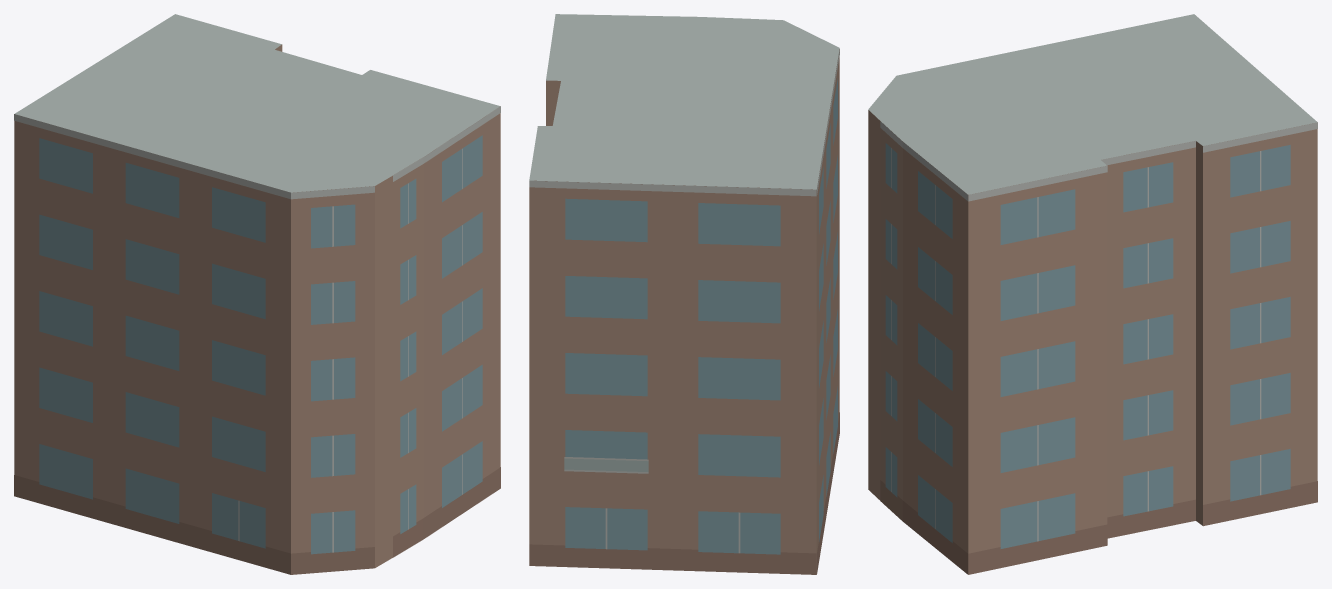
File: survey-upis-32707267.glb
The picture shows the model from 3 angles, left to right: view 1: azimuth 30°, elevation 25°; view 2: azimuth 150°, elevation 25°; view 3: azimuth 270°, elevation 25°; orthographic projection.
Visible parts, largest first — view 1: survey-upis-32707267.tmp; view 2: survey-upis-32707267.tmp; view 3: survey-upis-32707267.tmp.
Boxes of the visible parts, <box> form: survey-upis-32707267.tmp: <box>14,14,500,574</box>; survey-upis-32707267.tmp: <box>529,14,839,574</box>; survey-upis-32707267.tmp: <box>868,14,1317,574</box>.
Size of the model in its own units: 14.2 by 13.9 by 14.92.
